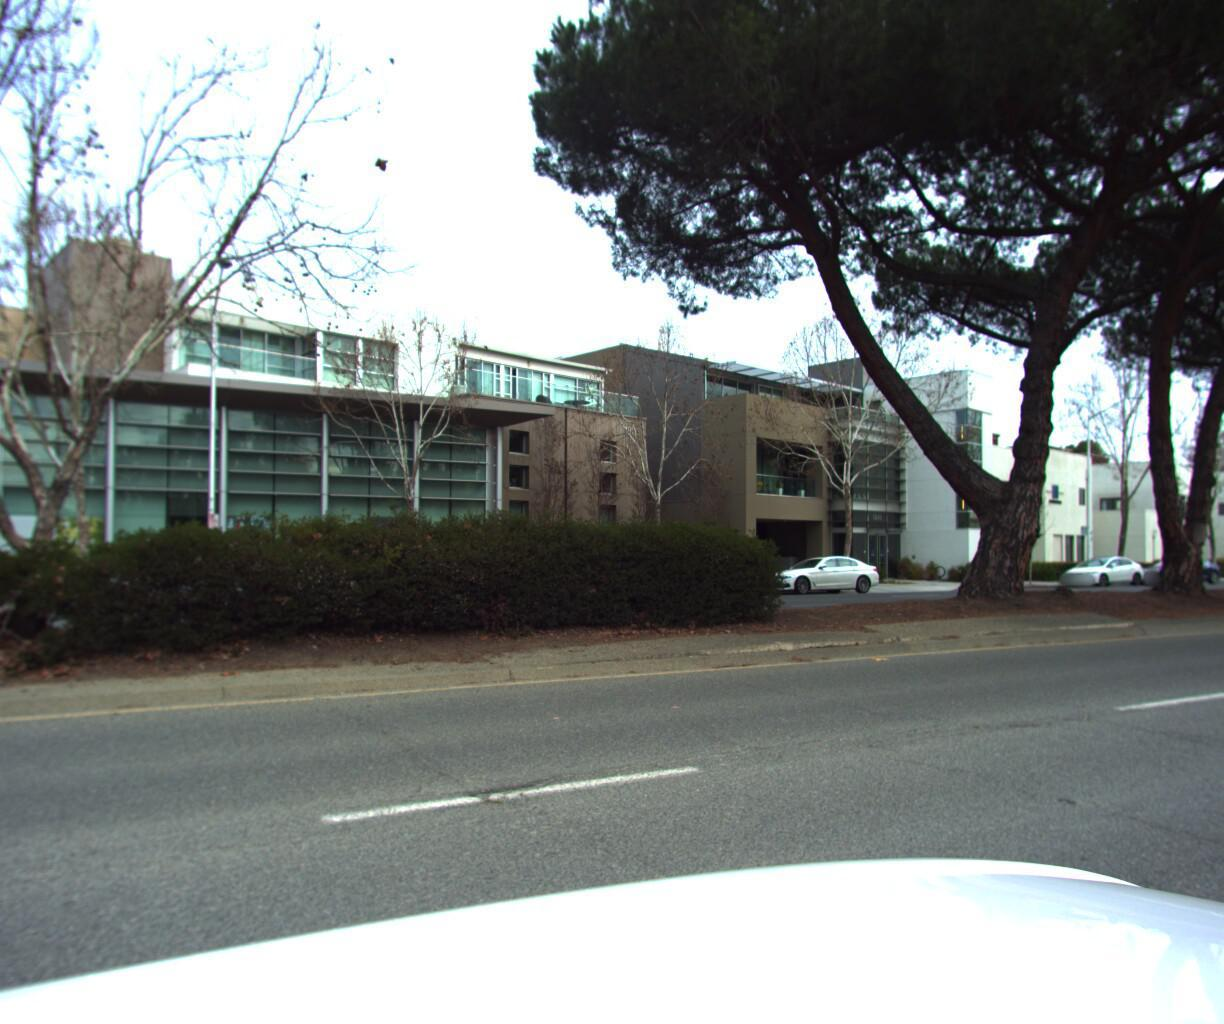car: (750, 550, 886, 595), (1053, 552, 1150, 588), (1130, 551, 1224, 584)
